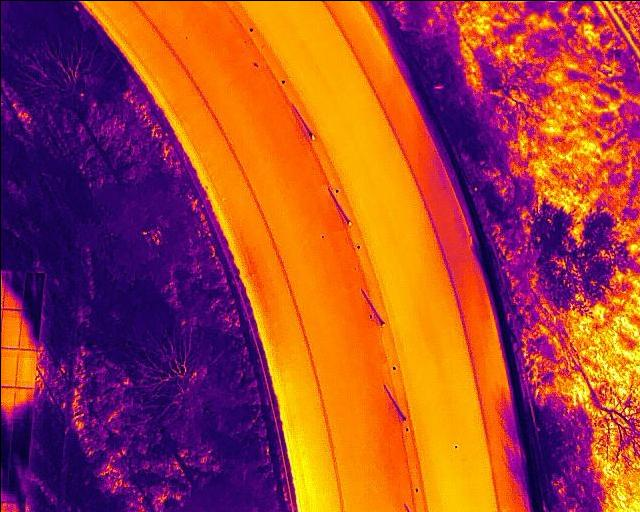No-Anomaly: (1, 308, 19, 349), (17, 349, 35, 388), (0, 346, 16, 388)
Shadowing: (18, 307, 40, 348), (2, 268, 22, 310), (21, 270, 41, 307)
